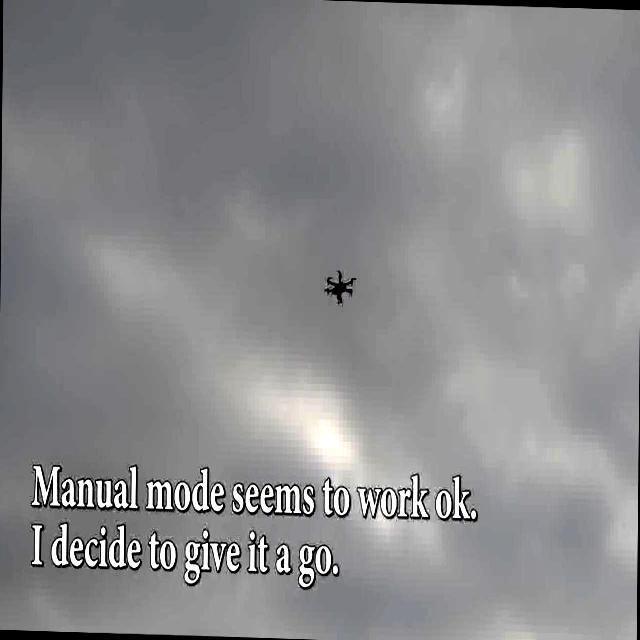drone: (322, 264, 358, 306)
